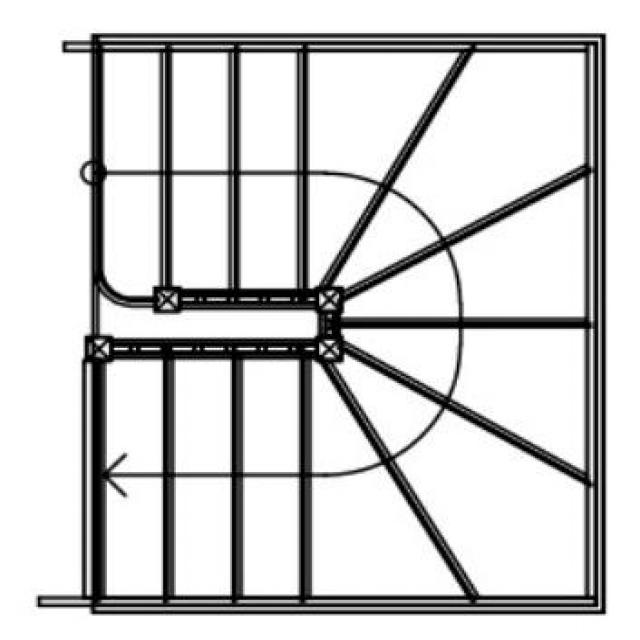stair: (33, 35, 609, 614)
